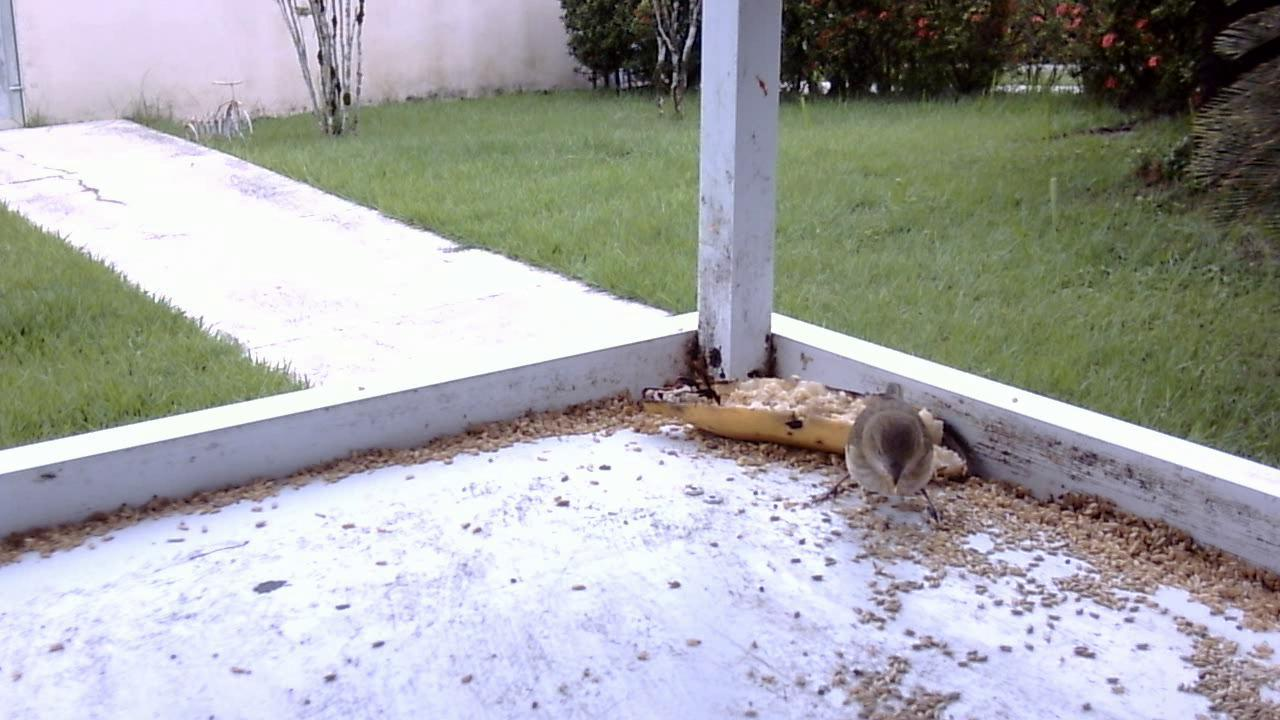canario_do_amazonas: (816, 376, 975, 526)
